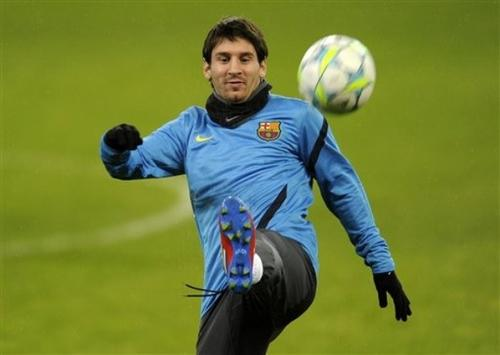football: (298, 34, 377, 118)
